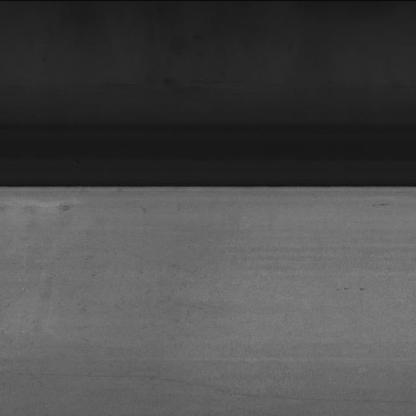inclusion: (328, 279, 379, 298)
silk_spot: (35, 262, 230, 336)
